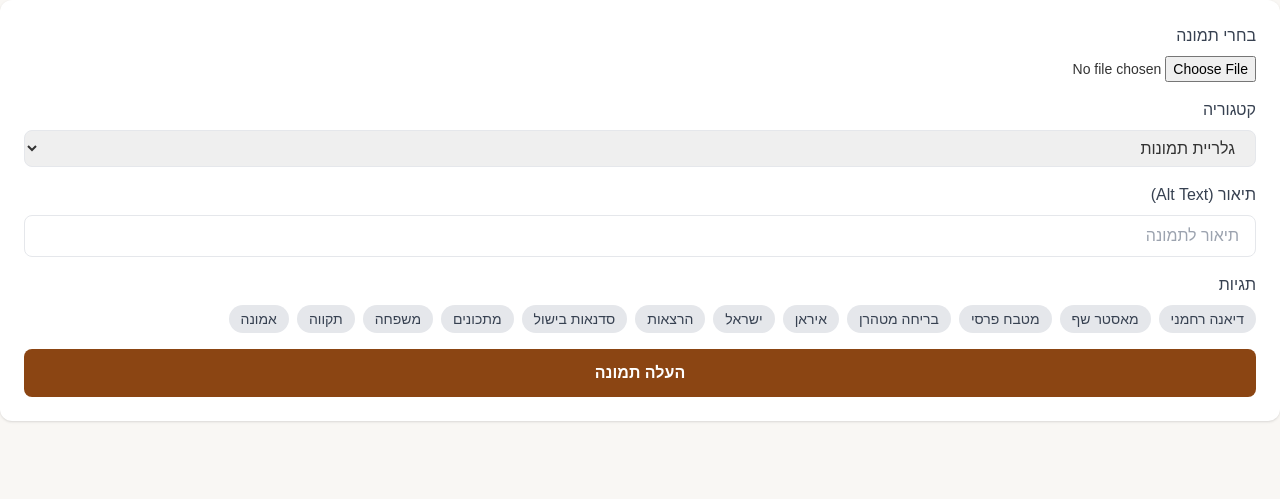
Scenario: ImageUploadForm › shows error when submitting without a file
The width and height of the screenshot is (1280, 499).
Click the button "העלה תמונה". click: (640, 373)
box: [24,349,1256,397]
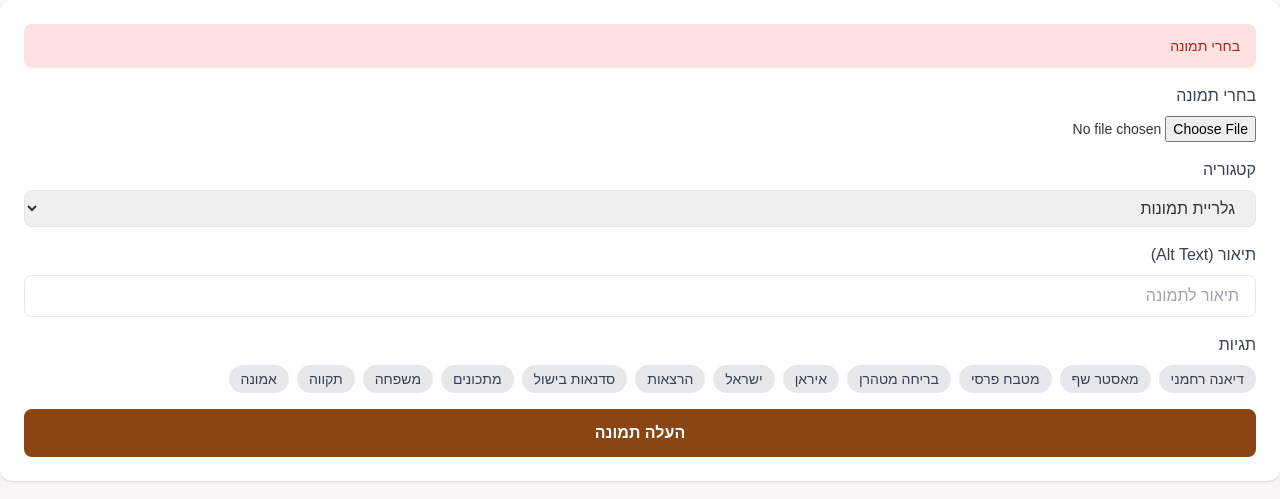
Expected: the text "בחרי תמונה" is shown, [24,24,1256,68]
